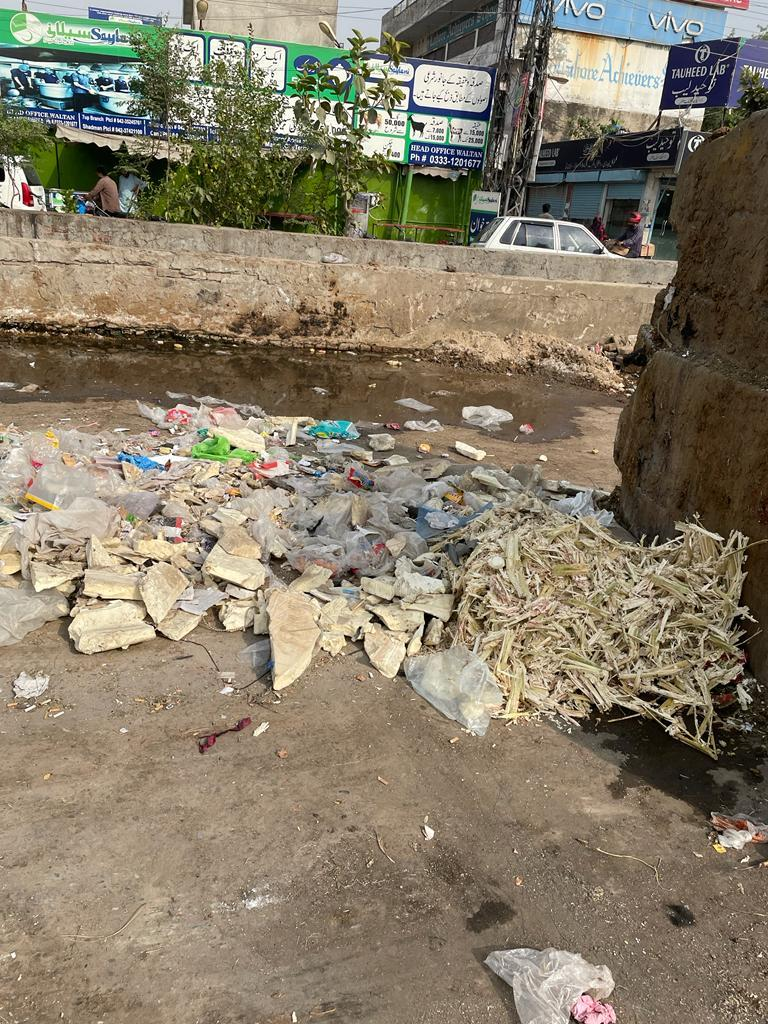garbage: (99, 398, 737, 717)
